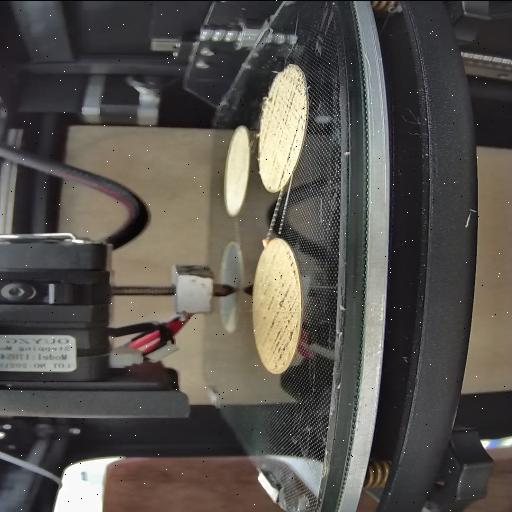under_extrusion: (262, 69, 302, 166), (266, 250, 298, 370), (273, 170, 289, 190)
